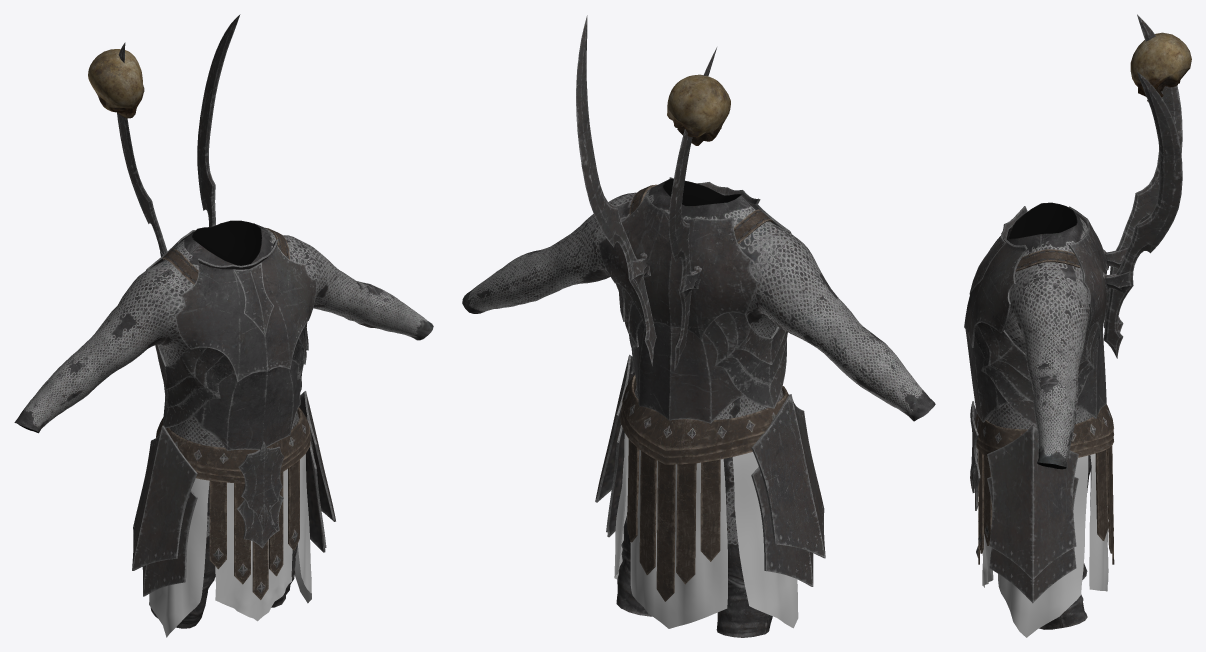
The model's file is sk_uruk_mordor_chainmail_captain_b1.fbx.
The picture shows the model from 3 angles, left to right: view 1: azimuth 30°, elevation 25°; view 2: azimuth 150°, elevation 25°; view 3: azimuth 270°, elevation 25°; orthographic projection. The views are drawn at different scales.
Visible parts, largest first — view 1: sk_uruk_mordor_chainmail_captain_b1.4, sk_uruk_mordor_chainmail_captain_b1.0, sk_uruk_mordor_chainmail_captain_b1.1, sk_uruk_mordor_chainmail_captain_b1.5, sk_uruk_mordor_chainmail_captain_b1.2, sk_uruk_mordor_chainmail_captain_b1.3; view 2: sk_uruk_mordor_chainmail_captain_b1.0, sk_uruk_mordor_chainmail_captain_b1.1, sk_uruk_mordor_chainmail_captain_b1.4, sk_uruk_mordor_chainmail_captain_b1.2, sk_uruk_mordor_chainmail_captain_b1.5; view 3: sk_uruk_mordor_chainmail_captain_b1.1, sk_uruk_mordor_chainmail_captain_b1.0, sk_uruk_mordor_chainmail_captain_b1.4, sk_uruk_mordor_chainmail_captain_b1.5, sk_uruk_mordor_chainmail_captain_b1.2, sk_uruk_mordor_chainmail_captain_b1.3.
Part boxes in pixels (<box>): sk_uruk_mordor_chainmail_captain_b1.4: <box>146,223,316,450</box>; sk_uruk_mordor_chainmail_captain_b1.0: <box>14,220,433,628</box>; sk_uruk_mordor_chainmail_captain_b1.1: <box>88,14,310,599</box>; sk_uruk_mordor_chainmail_captain_b1.5: <box>132,391,335,596</box>; sk_uruk_mordor_chainmail_captain_b1.2: <box>149,454,311,637</box>; sk_uruk_mordor_chainmail_captain_b1.3: <box>237,440,284,548</box>; sk_uruk_mordor_chainmail_captain_b1.0: <box>462,178,935,637</box>; sk_uruk_mordor_chainmail_captain_b1.1: <box>576,15,788,601</box>; sk_uruk_mordor_chainmail_captain_b1.4: <box>598,177,791,423</box>; sk_uruk_mordor_chainmail_captain_b1.2: <box>614,433,798,628</box>; sk_uruk_mordor_chainmail_captain_b1.5: <box>595,354,825,586</box>; sk_uruk_mordor_chainmail_captain_b1.1: <box>975,14,1191,564</box>; sk_uruk_mordor_chainmail_captain_b1.0: <box>986,202,1092,629</box>; sk_uruk_mordor_chainmail_captain_b1.4: <box>964,206,1107,425</box>; sk_uruk_mordor_chainmail_captain_b1.5: <box>987,425,1078,603</box>; sk_uruk_mordor_chainmail_captain_b1.2: <box>982,453,1108,637</box>; sk_uruk_mordor_chainmail_captain_b1.3: <box>970,401,980,510</box>.
Size of the model in its own units: 1.37 by 0.6457 by 1.76.
